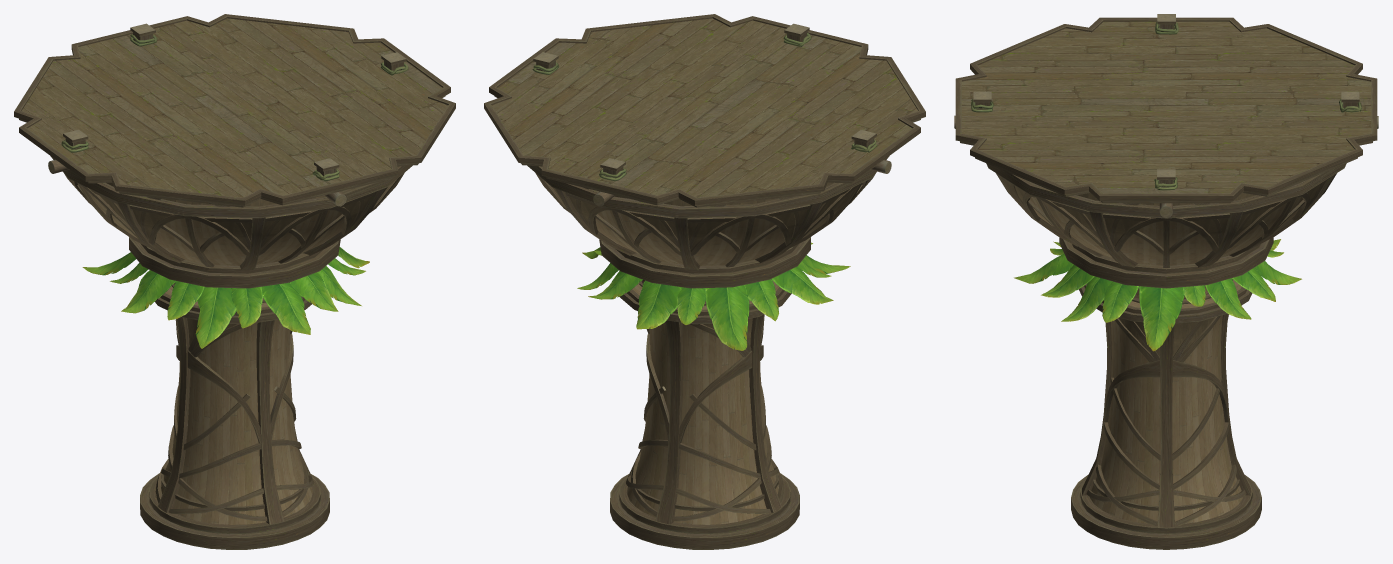
File: Homeworld_Exterior_Xm_Build_House_04_Lod0.fbx
3 views of the same model, side by side, from view 1: azimuth 30°, elevation 25°; view 2: azimuth 150°, elevation 25°; view 3: azimuth 270°, elevation 25° (orthographic).
Visible parts, largest first — view 1: Homeworld_Exterior_Xm_Build_House_04_Lod0, Homeworld_Exterior_Xm_Build_House_04_01_Lod0; view 2: Homeworld_Exterior_Xm_Build_House_04_Lod0, Homeworld_Exterior_Xm_Build_House_04_01_Lod0; view 3: Homeworld_Exterior_Xm_Build_House_04_Lod0, Homeworld_Exterior_Xm_Build_House_04_01_Lod0.
Part boxes in pixels (x1=…): Homeworld_Exterior_Xm_Build_House_04_Lod0: x1=14, y1=14, x2=455, y2=549; Homeworld_Exterior_Xm_Build_House_04_01_Lod0: x1=82, y1=247, x2=369, y2=348; Homeworld_Exterior_Xm_Build_House_04_Lod0: x1=484, y1=14, x2=925, y2=549; Homeworld_Exterior_Xm_Build_House_04_01_Lod0: x1=577, y1=242, x2=850, y2=350; Homeworld_Exterior_Xm_Build_House_04_Lod0: x1=954, y1=14, x2=1378, y2=549; Homeworld_Exterior_Xm_Build_House_04_01_Lod0: x1=1014, y1=239, x2=1301, y2=351.
Bounding box in the file's own units: 15.1 × 16.24 × 15.1.
